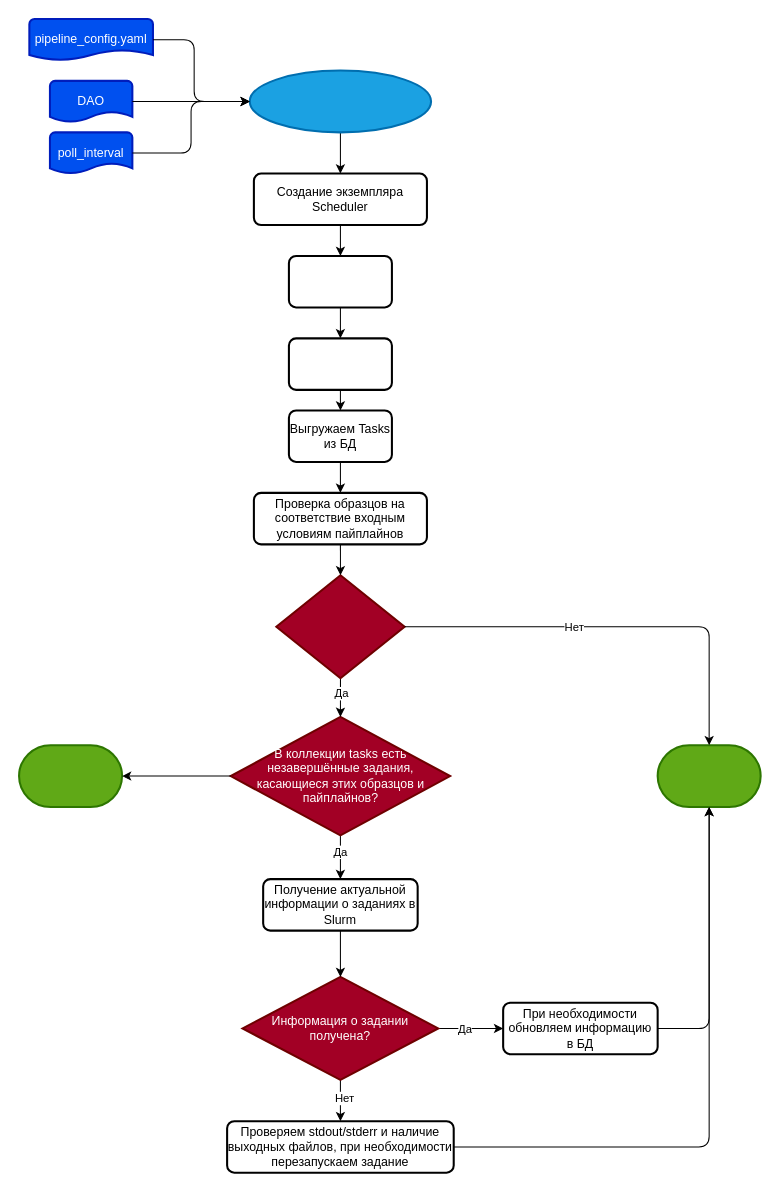
This 779x1191 diagram has some shape labels left out. The shapes that lost their labels are listed below. From the top down, each one's centre as x and y in pixels, then its label:
At [340,101]: "Вызов init_scheduler()".
At [339,281]: "Загрузка пайплайнов".
At [339,363]: "Проверка наличия Slurm".
At [340,626]: "Есть подходящие образцы?".
At [70,776]: "Постановка задачи обработки".
At [708,776]: "Запуск мониторинга БД".
